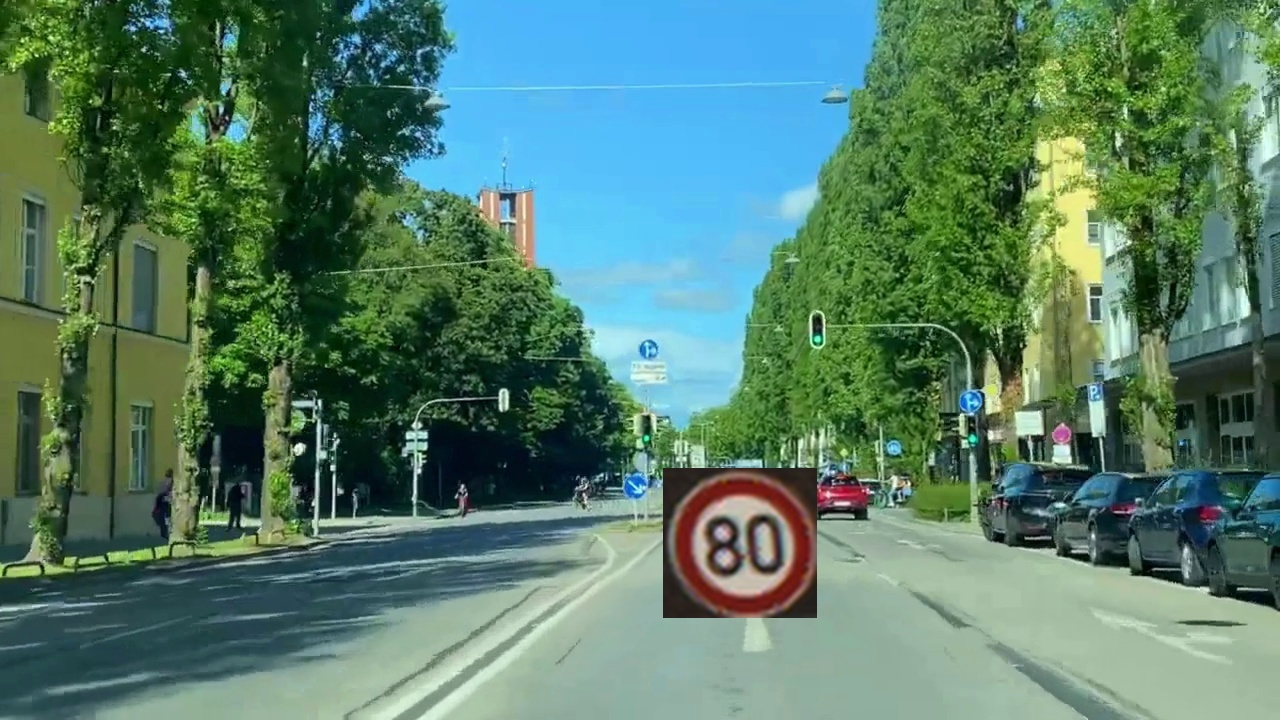Speed 80: (663, 468, 817, 618)
